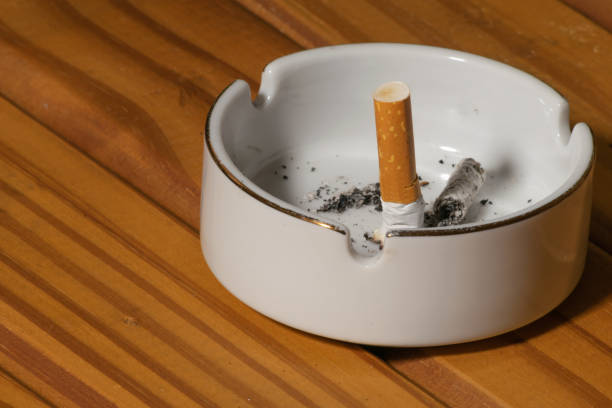cigarette: (372, 78, 427, 233)
